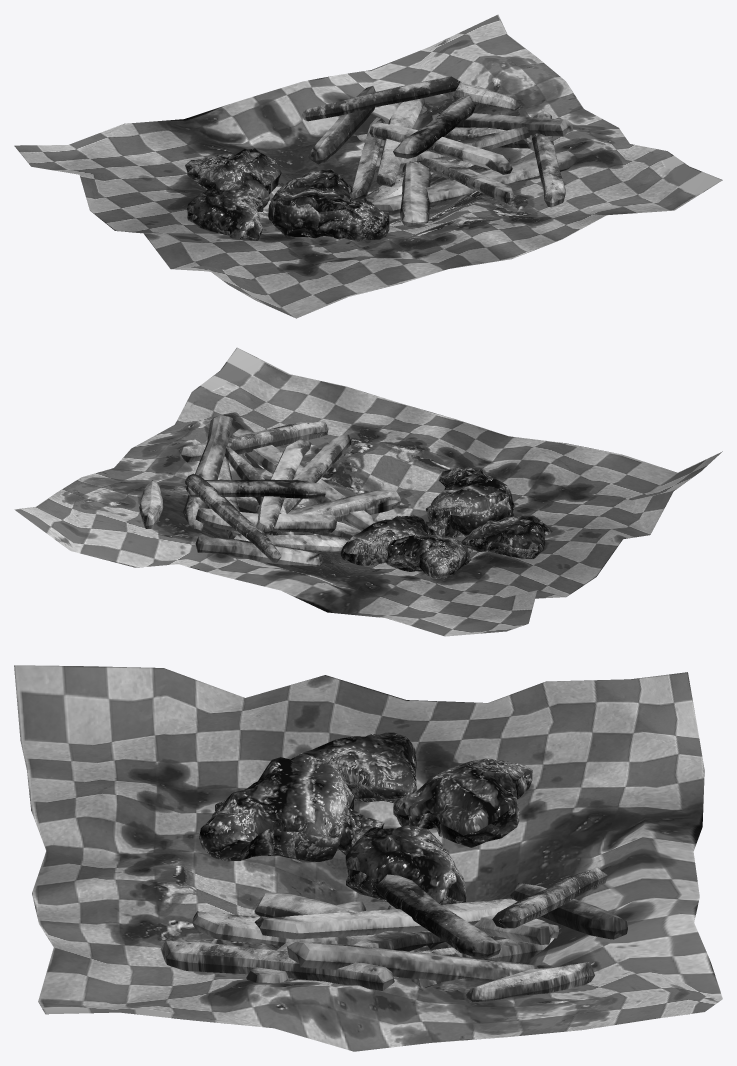
The model's file is soy_garlic_chicken.fbx.
The picture shows the model from 3 angles, top to bottom: view 1: azimuth 30°, elevation 25°; view 2: azimuth 150°, elevation 25°; view 3: azimuth 270°, elevation 25°; orthographic projection. The views are drawn at different scales.
Parts seen in each view (by area): view 1: soy_garlic_chicken; view 2: soy_garlic_chicken; view 3: soy_garlic_chicken.
Part boxes in pixels (x1=…): soy_garlic_chicken: x1=14, y1=14, x2=722, y2=318; soy_garlic_chicken: x1=14, y1=347, x2=722, y2=636; soy_garlic_chicken: x1=14, y1=665, x2=722, y2=1051.
Bounding box in the file's own units: 62.8 × 9.55 × 53.2.
